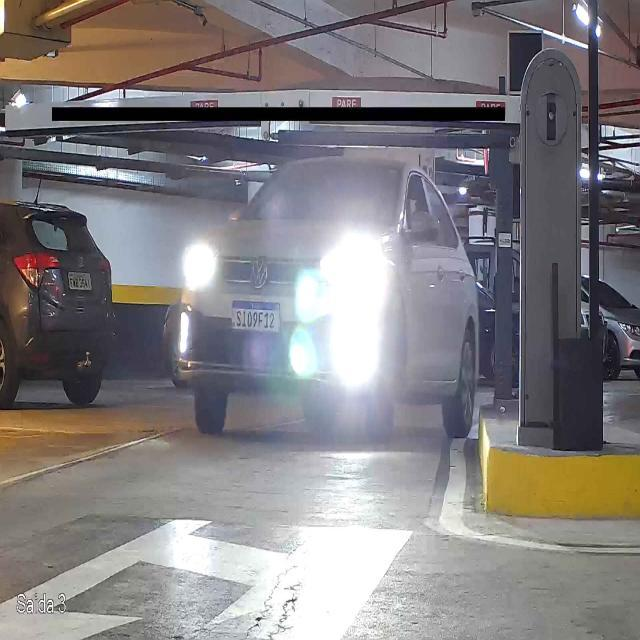mercosul_plate: (230, 299, 282, 336)
